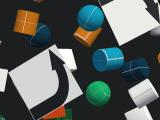Left: (8, 44, 83, 120)
Right: (98, 0, 160, 46)
